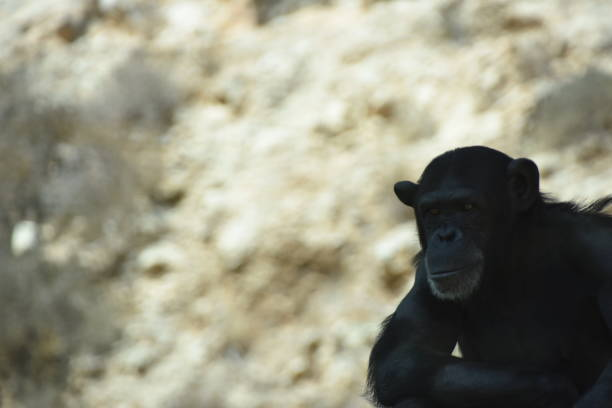chimpanzee: (370, 128, 568, 325)
